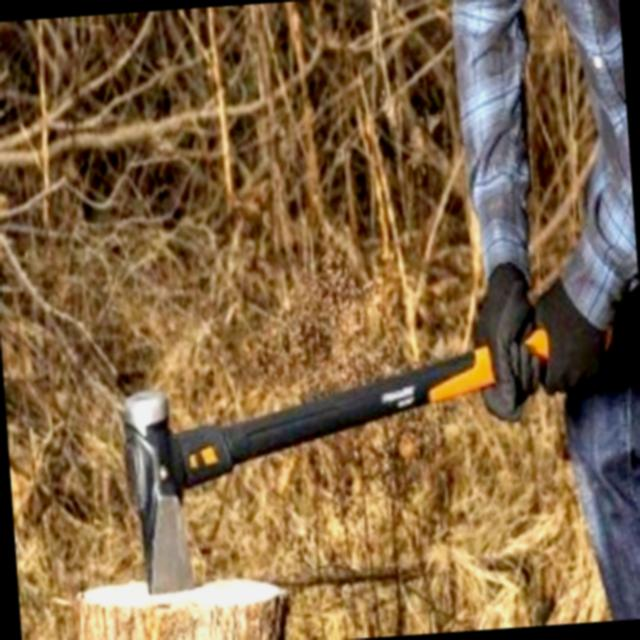ax: (102, 295, 640, 613)
